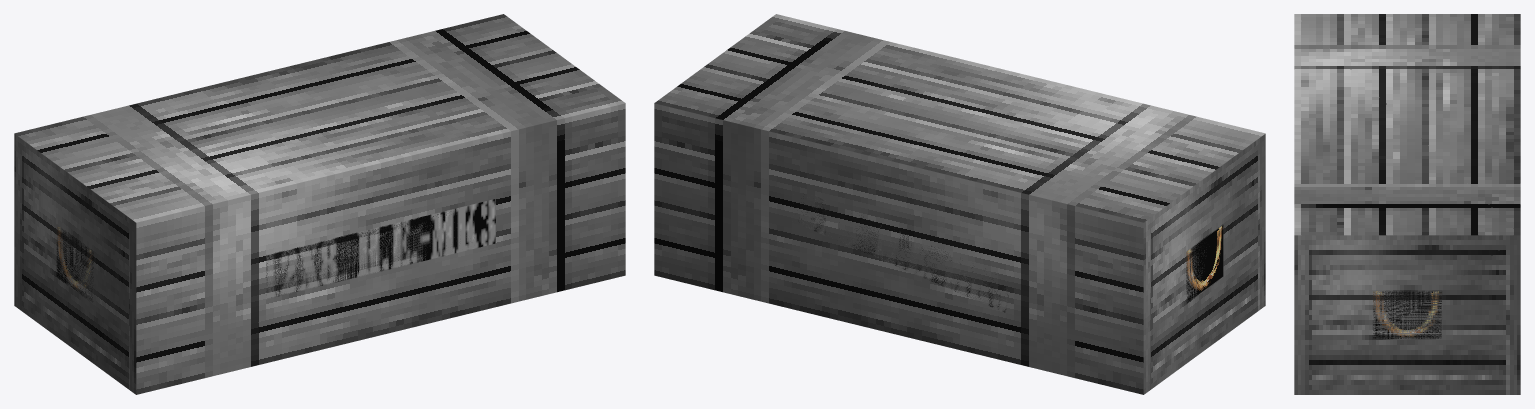
The model's file is green ammo crate.obj.
3 renders of one model, left to right at view 1: azimuth 30°, elevation 25°; view 2: azimuth 150°, elevation 25°; view 3: azimuth 270°, elevation 25°, orthographic. The views are drawn at different scales.
Visible parts, largest first — view 1: Room02_primary; view 2: Room02_primary; view 3: Room02_primary.
Boxes of the visible parts, x1=… form: Room02_primary: x1=14, y1=14, x2=625, y2=394; Room02_primary: x1=654, y1=14, x2=1265, y2=394; Room02_primary: x1=1294, y1=14, x2=1520, y2=394.
Bounding box in the file's own units: 1214 × 408 × 524.
Materials: 4 (4 with a texture image).
